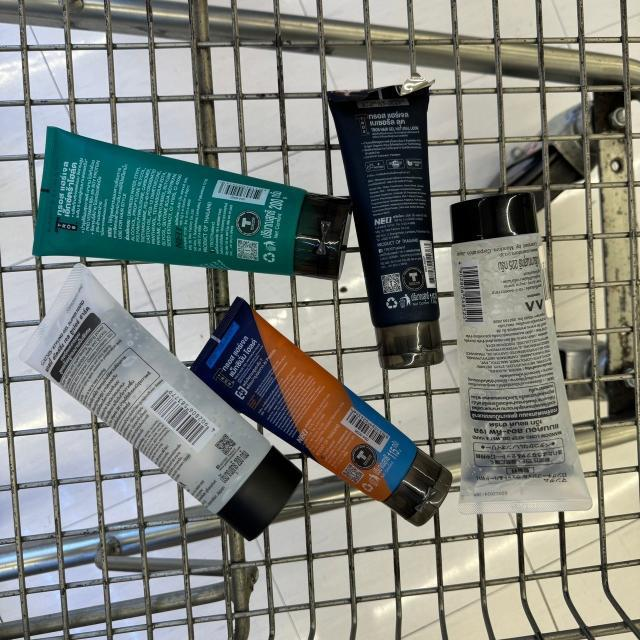Squeeze Tube: (16, 259, 303, 548), (181, 297, 460, 539), (34, 123, 364, 291), (450, 191, 587, 517), (329, 80, 459, 372)
